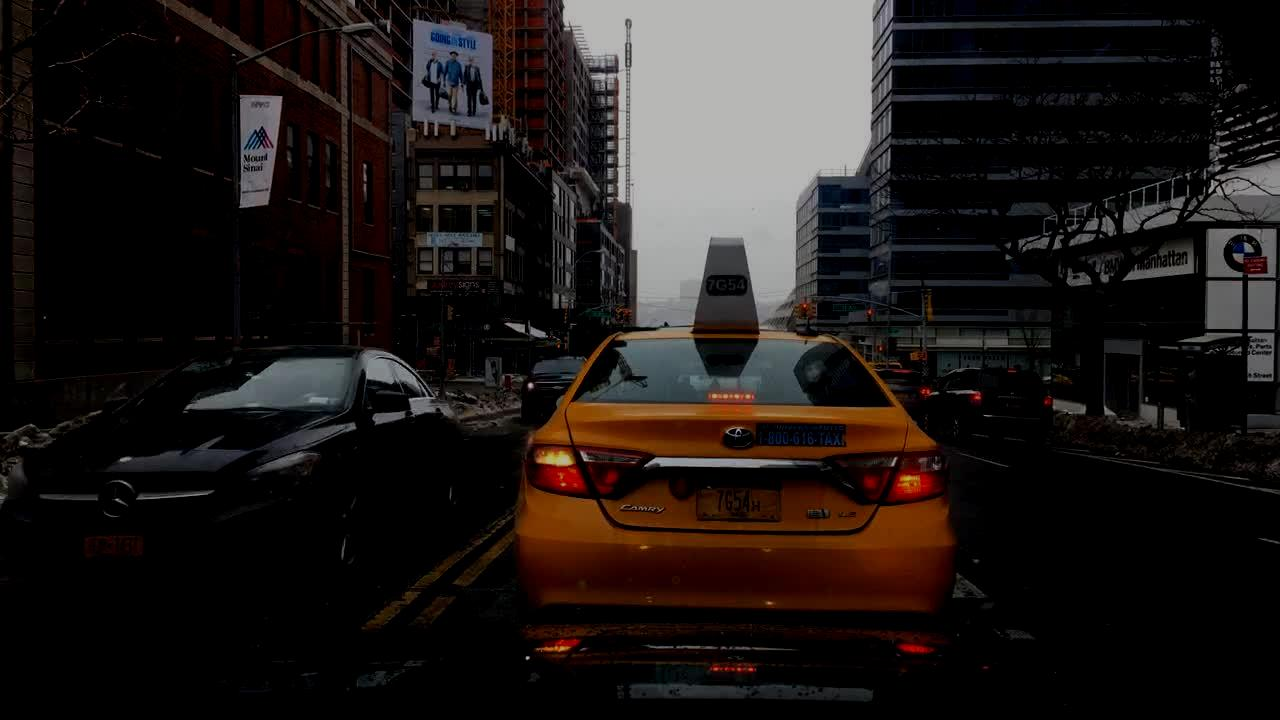Mercedes: (82, 472, 148, 526)
Toyota: (722, 423, 760, 453)
